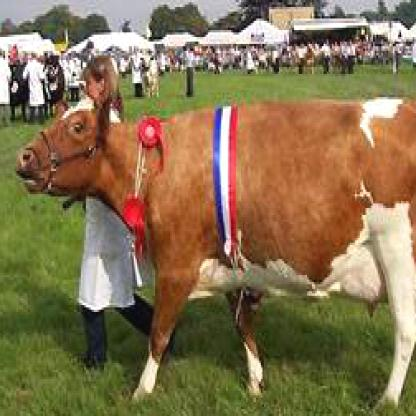cow: (15, 90, 415, 414)
